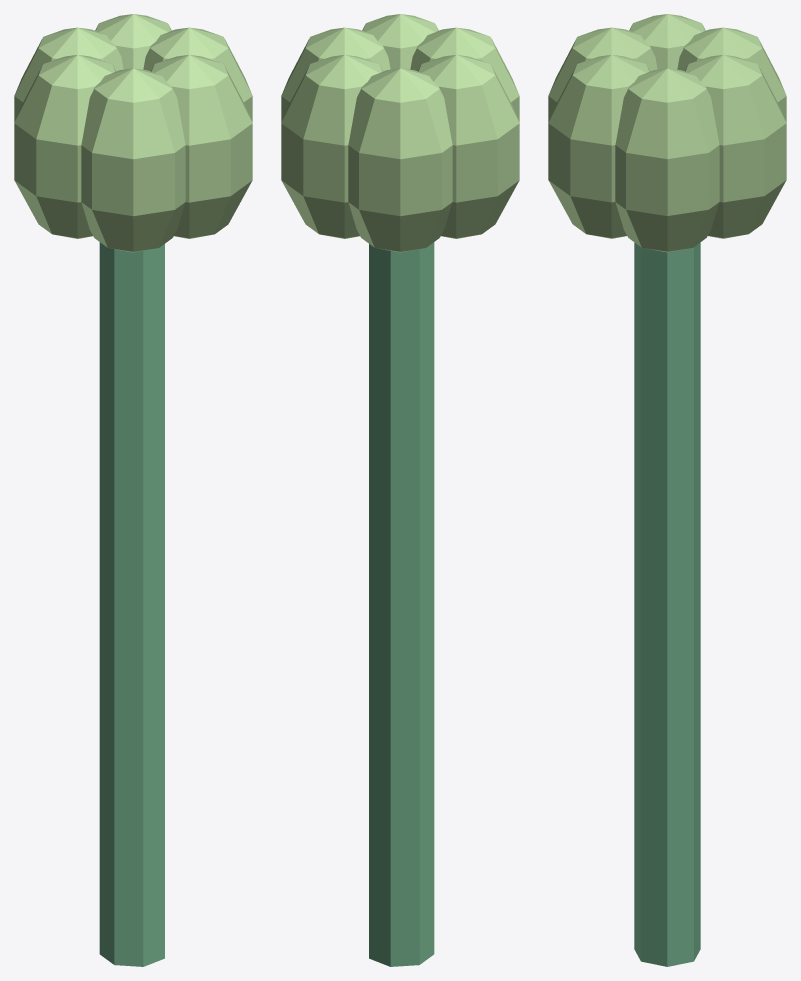
The model's file is flor_brote.glb.
3 views of the same model, side by side, from view 1: azimuth 30°, elevation 25°; view 2: azimuth 150°, elevation 25°; view 3: azimuth 270°, elevation 25° (orthographic).
Visible parts, largest first — view 1: flor_brote; view 2: flor_brote; view 3: flor_brote.
Part boxes in pixels (x1,y1,x2,y2): flor_brote: (14, 14, 252, 966); flor_brote: (281, 14, 519, 966); flor_brote: (548, 14, 786, 966).
Size of the model in its own units: 0.749 by 2.97 by 0.7037.
